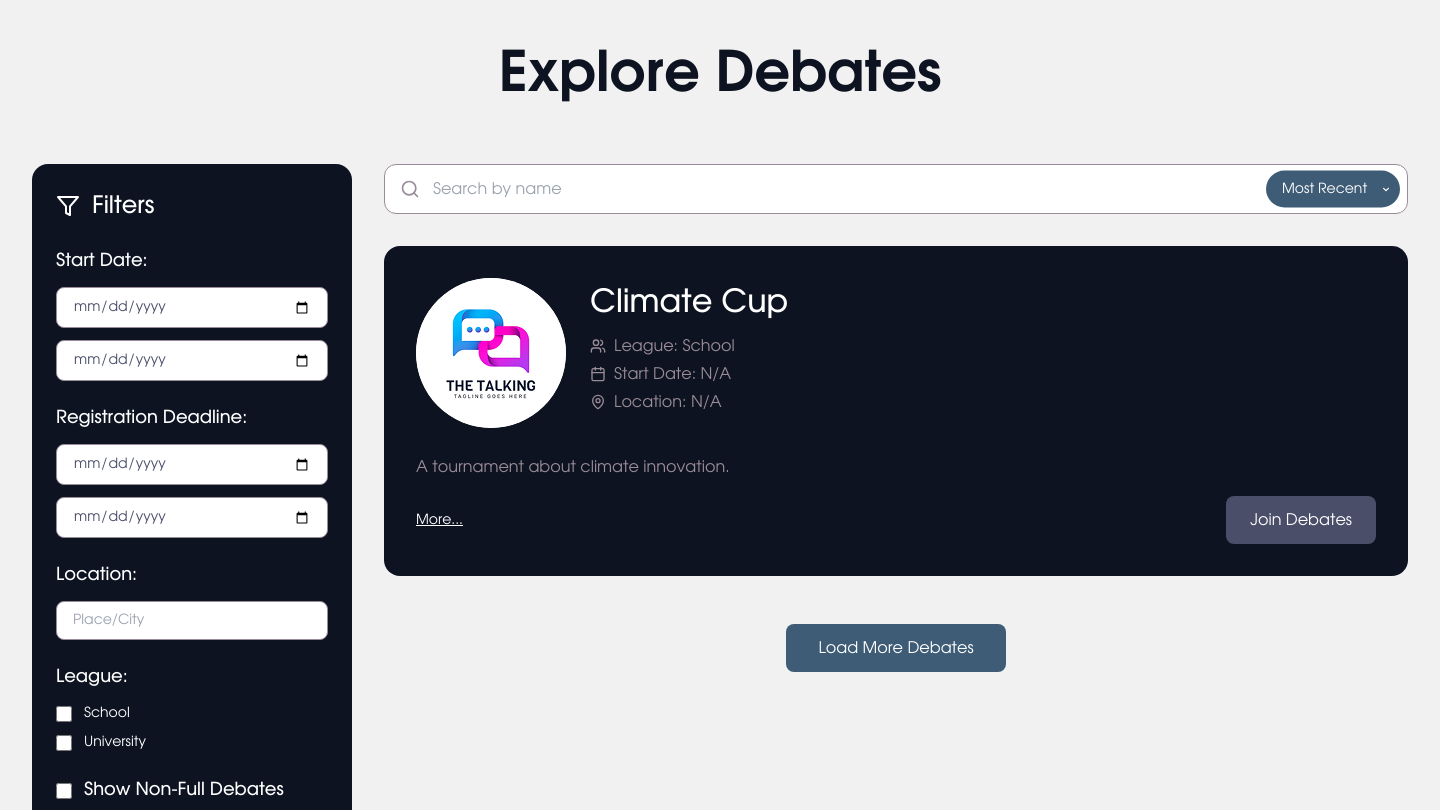
Test: JoinDebatesPage tournament pagination › ignores a late response from a page load after a filter reset
Expected: the heading "Climate Cup" is shown, x1=590 y1=286 x2=788 y2=318
Click the button "Load More Debates". click: (896, 648)
box: x1=786 y1=624 x2=1006 y2=672
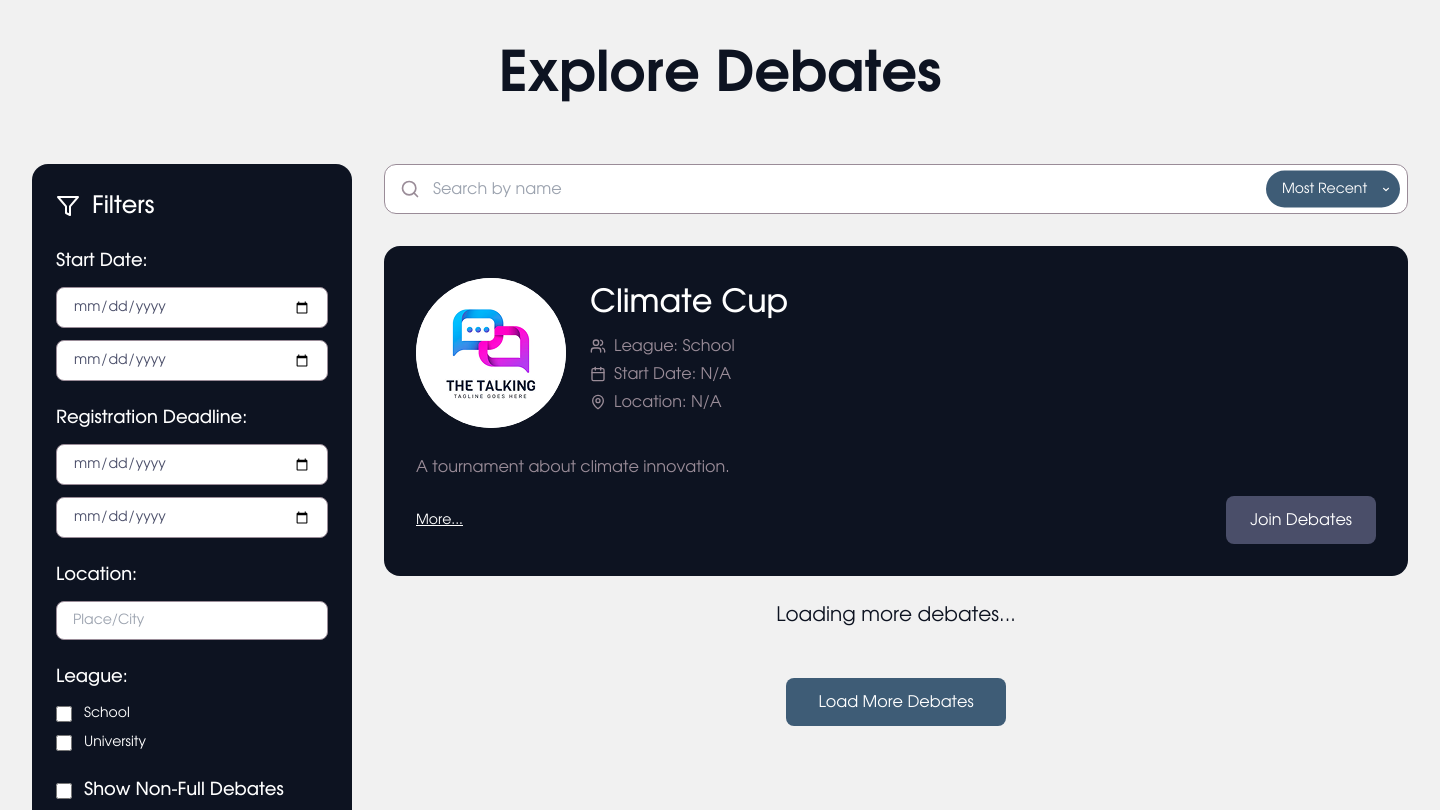
Type "Shymkent" into the field with placeholder "Place/City". click: (192, 620)
box: x1=56 y1=601 x2=328 y2=640
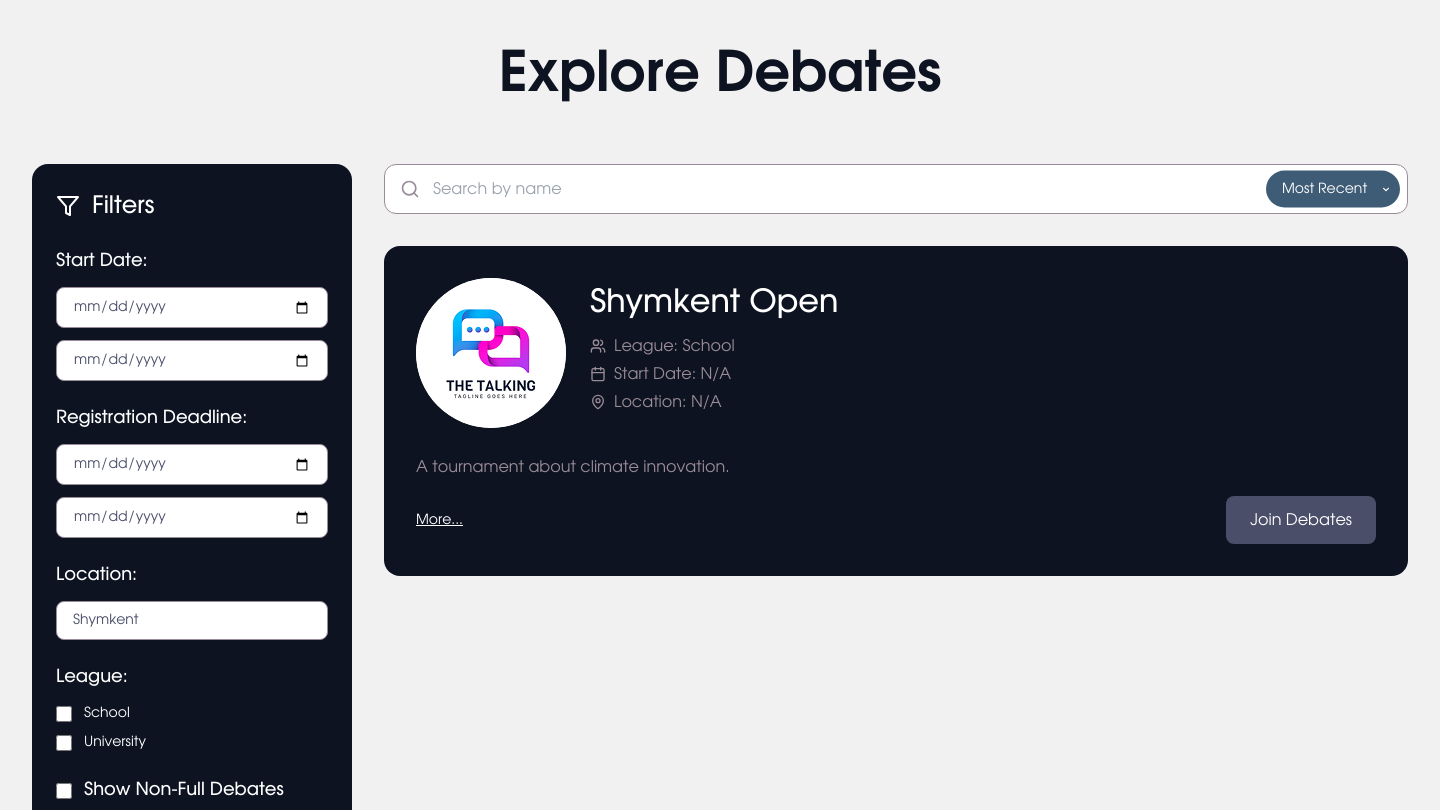
Expected: the heading "Shymkent Open" is shown, x1=590 y1=286 x2=838 y2=318
